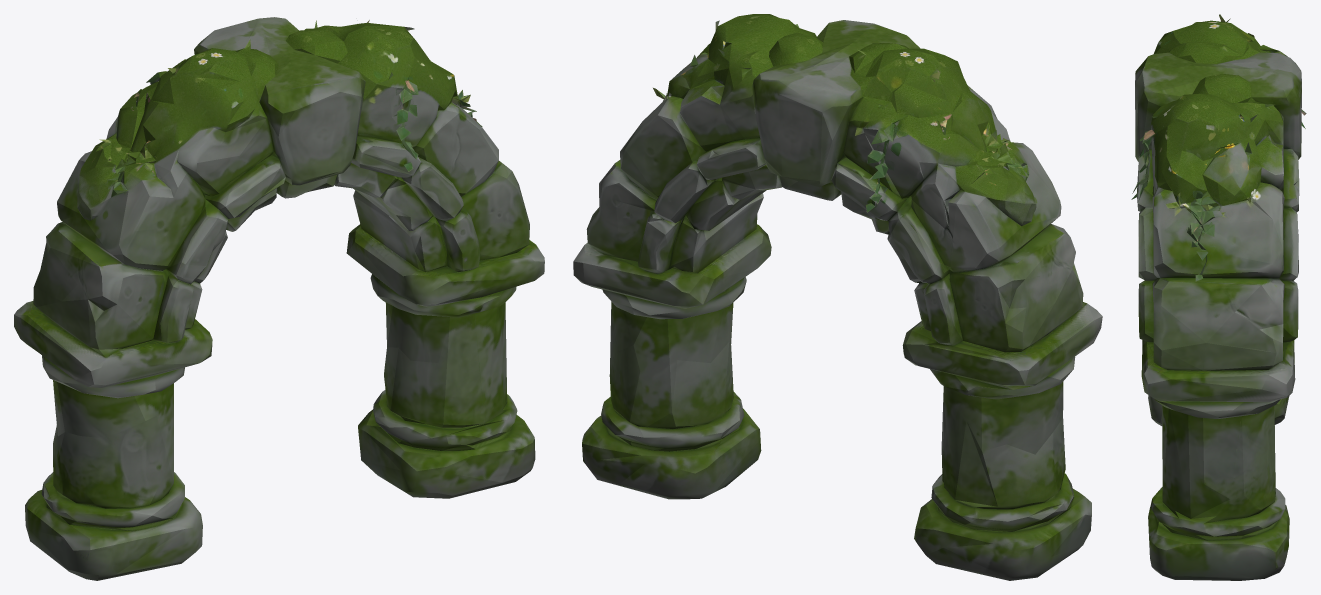
3 views of the same model, side by side, from view 1: azimuth 30°, elevation 25°; view 2: azimuth 150°, elevation 25°; view 3: azimuth 270°, elevation 25° (orthographic). The views are drawn at different scales.
Bounding box in the file's own units: 1.9 × 1.83 × 0.6827.
Materials: 1 (1 with a texture image).
